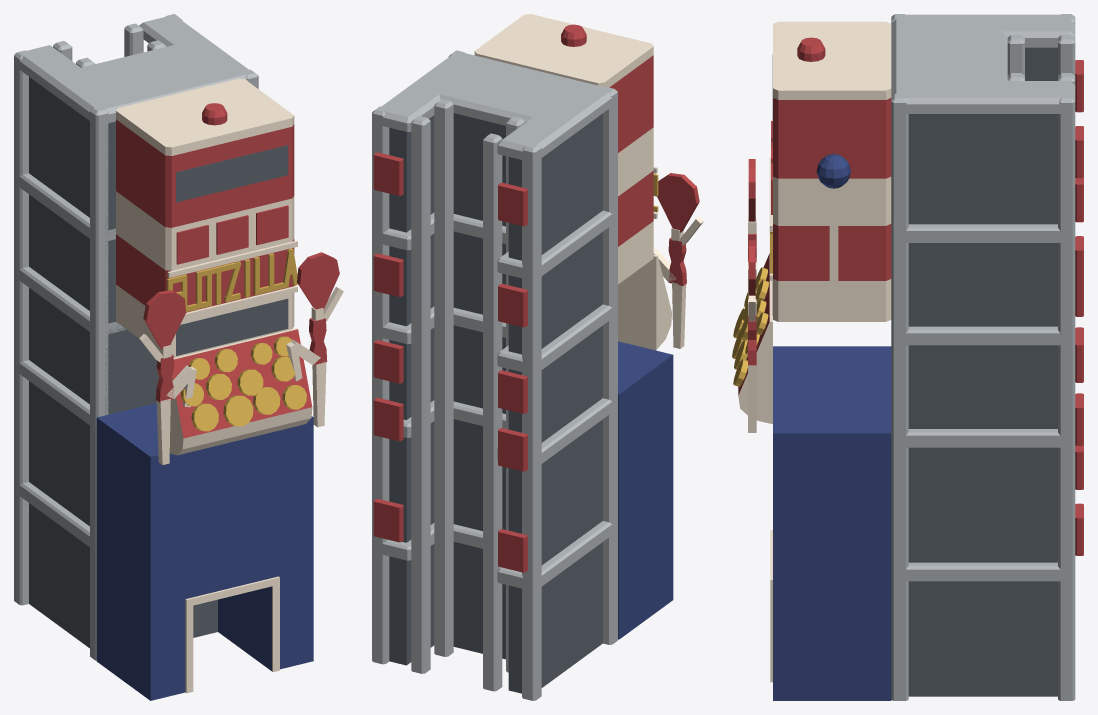
The model's file is lv-slotzilla.glb.
The picture shows the model from 3 angles, left to right: view 1: azimuth 30°, elevation 25°; view 2: azimuth 150°, elevation 25°; view 3: azimuth 270°, elevation 25°; orthographic projection. The views are drawn at different scales.
Parts seen in each view (by area): view 1: SlotZilla; view 2: SlotZilla; view 3: SlotZilla.
Part boxes in pixels (x1=…): SlotZilla: x1=14, y1=14, x2=343, y2=700; SlotZilla: x1=372, y1=14, x2=703, y2=700; SlotZilla: x1=732, y1=14, x2=1083, y2=700.
Bounding box in the file's own units: 14.7 × 39.1 × 20.26.
